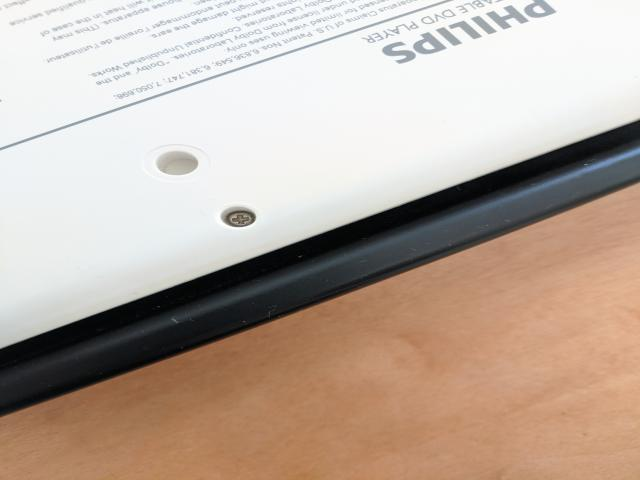CRS: (225, 209, 255, 228)
